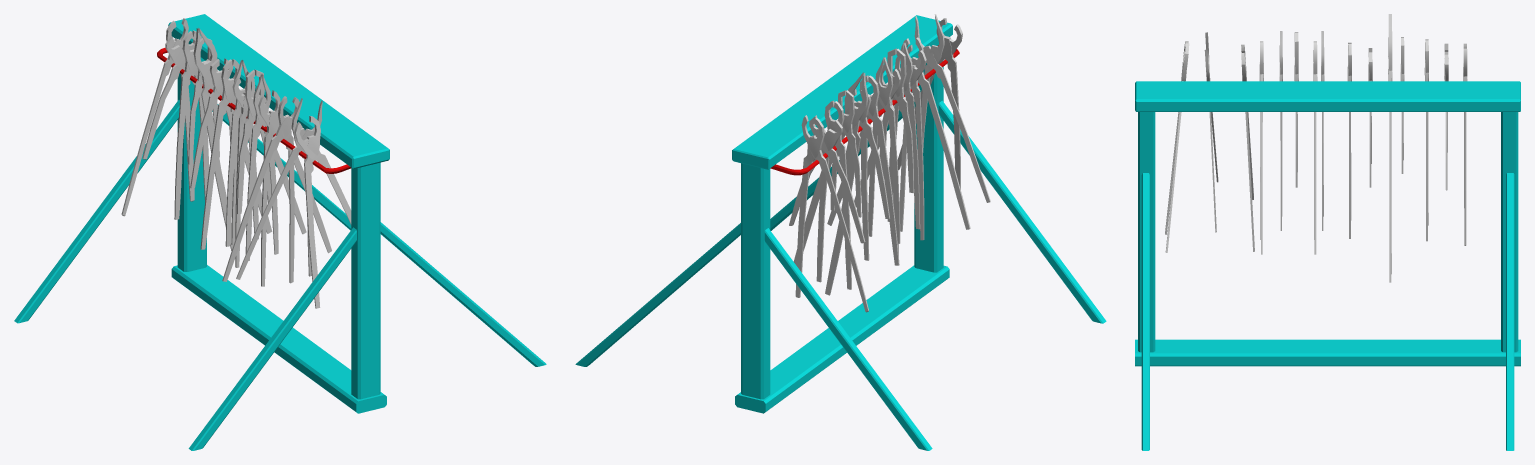
Rendered from SM_toolStand.fbx.
3 renders of one model, left to right at view 1: azimuth 30°, elevation 25°; view 2: azimuth 150°, elevation 25°; view 3: azimuth 270°, elevation 25°, orthographic. The views are drawn at different scales.
Visible parts, largest first — view 1: Cube.052; view 2: Cube.052; view 3: Cube.052.
Boxes of the visible parts, x1,y1,x2,y2 form: Cube.052: (14, 14, 546, 450); Cube.052: (575, 14, 1106, 450); Cube.052: (1135, 14, 1520, 450).
Size of the model in its own units: 130 by 107 by 117.
